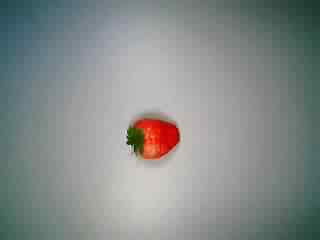strawberry: (119, 101, 187, 165)
